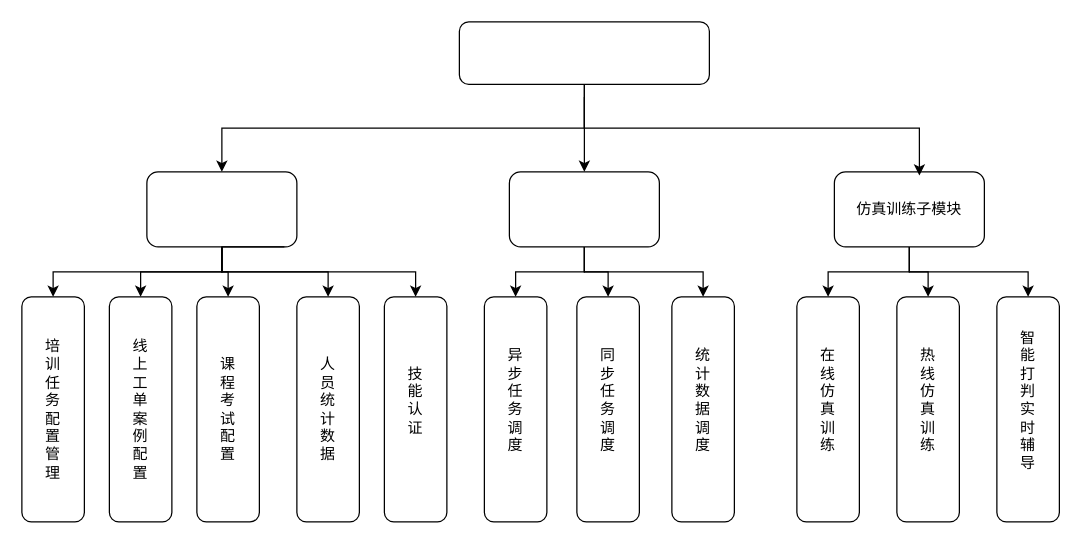
Image size: 1081x544. Some labels were removed from this diagram. Here are the shapes that lost their labels. From the top down, the centre of each, then its label:
At (583,52): "面向企业客服的智能仿真训练平台".
At (221,209): "资源管理子模块".
At (583,209): "数据调度子模块".
